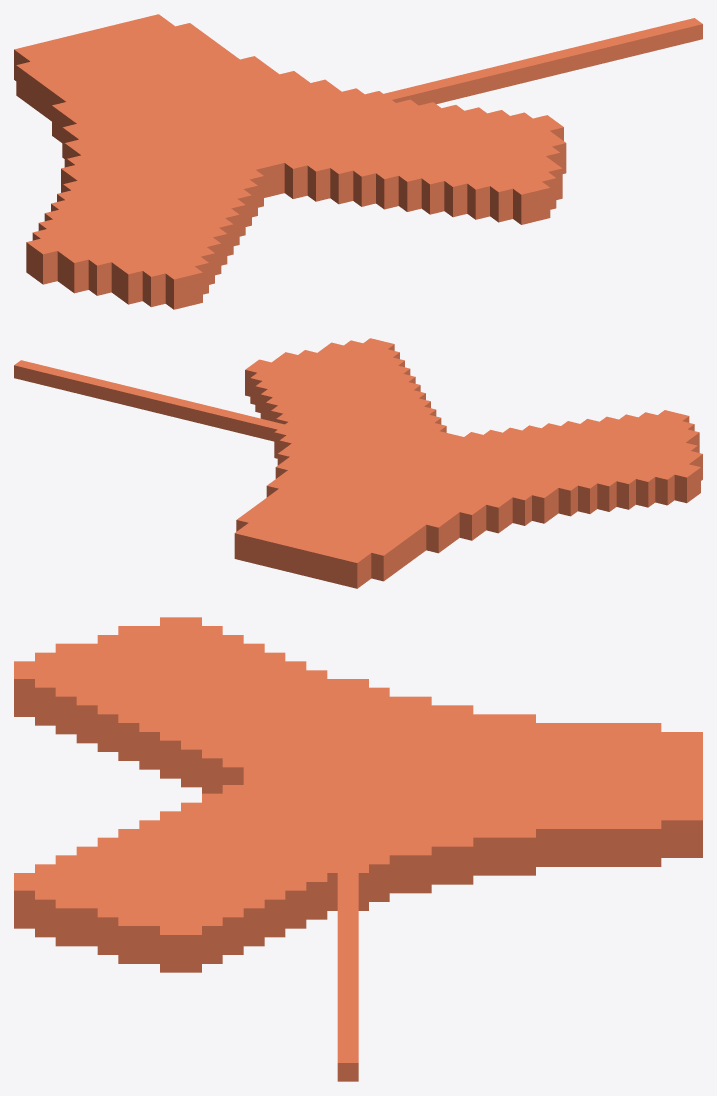
The model's file is argent_cube.glb.
3 views of the same model, one above another, from view 1: azimuth 30°, elevation 25°; view 2: azimuth 150°, elevation 25°; view 3: azimuth 270°, elevation 25° (orthographic). The views are drawn at different scales.
Visible parts, largest first — view 1: Plane; view 2: Plane; view 3: Plane.
Boxes of the visible parts, bbox=[...] form: Plane: bbox=[14, 14, 566, 309]; Plane: bbox=[234, 338, 702, 588]; Plane: bbox=[14, 617, 702, 972].
Size of the model in its own units: 50.5 by 2 by 33.
